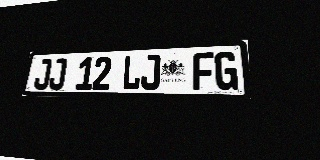1: (75, 57, 95, 90)
2: (92, 56, 112, 90)
F: (193, 52, 214, 90)
G: (215, 51, 238, 90)
J: (140, 54, 161, 90), (48, 58, 67, 90), (33, 59, 52, 90)
L: (121, 55, 142, 90)
